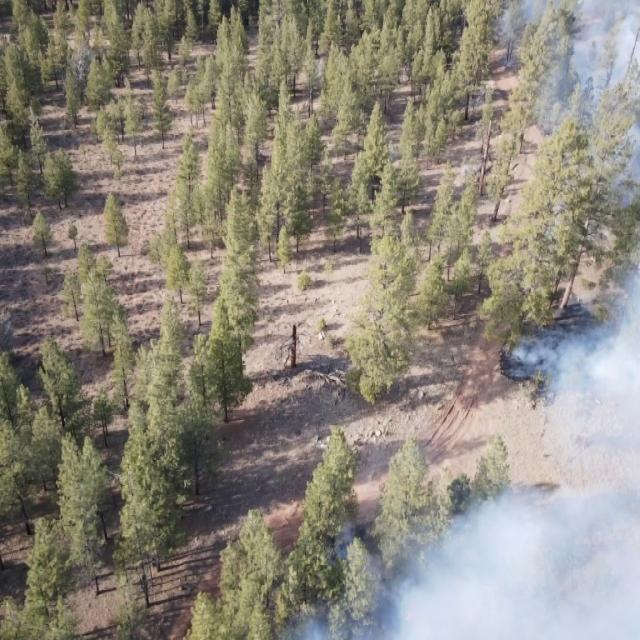smoke: (481, 0, 640, 640), (270, 489, 480, 639), (70, 35, 100, 83), (309, 58, 331, 88)
